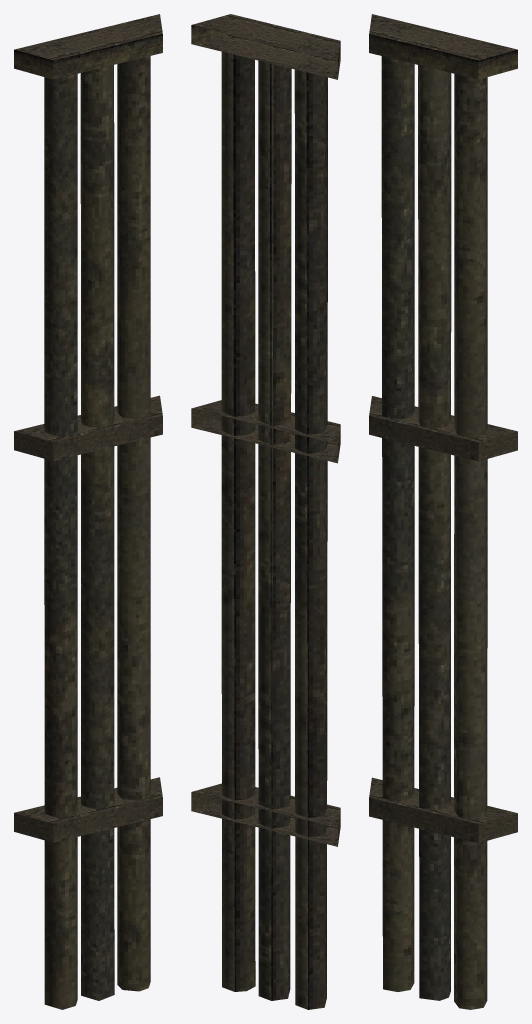
Rendered from pipes_hr_1_vertical_end_1.glb.
The picture shows the model from 3 angles, left to right: view 1: azimuth 30°, elevation 25°; view 2: azimuth 150°, elevation 25°; view 3: azimuth 330°, elevation 25°; orthographic projection.
Parts seen in each view (by area): view 1: pipes_hr_1_vertical_end_1; view 2: pipes_hr_1_vertical_end_1; view 3: pipes_hr_1_vertical_end_1.
Part boxes in pixels (left/top/right/bottom): pipes_hr_1_vertical_end_1: left=14, top=14, right=162, bottom=1009; pipes_hr_1_vertical_end_1: left=191, top=14, right=340, bottom=1009; pipes_hr_1_vertical_end_1: left=369, top=14, right=517, bottom=1009.
Size of the model in its own units: 0.4 by 2.5 by 0.1.
1 material, 1 textured.
